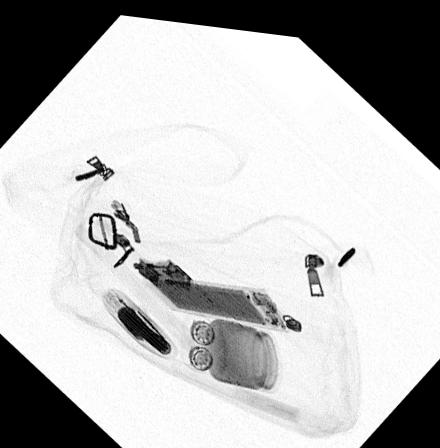Powerbank: (142, 266, 289, 323)
